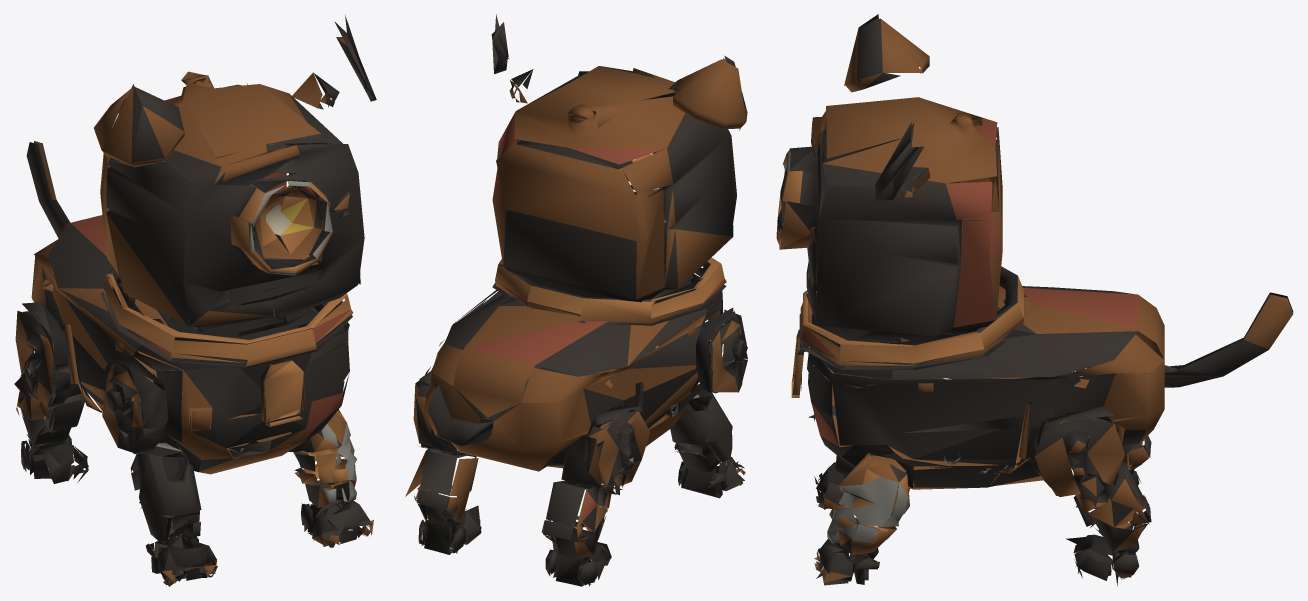
File: camp_pet_tripo.glb
3 views of the same model, side by side, from view 1: azimuth 30°, elevation 25°; view 2: azimuth 150°, elevation 25°; view 3: azimuth 270°, elevation 25° (orthographic). The views are drawn at different scales.
Parts seen in each view (by area): view 1: Body; view 2: Body; view 3: Body.
Part boxes in pixels (box(x1,y1,x2,y2)): Body: box(14, 15, 376, 586); Body: box(405, 14, 747, 586); Body: box(776, 14, 1293, 586).
Size of the model in its own units: 0.8326 by 1.46 by 1.42.
